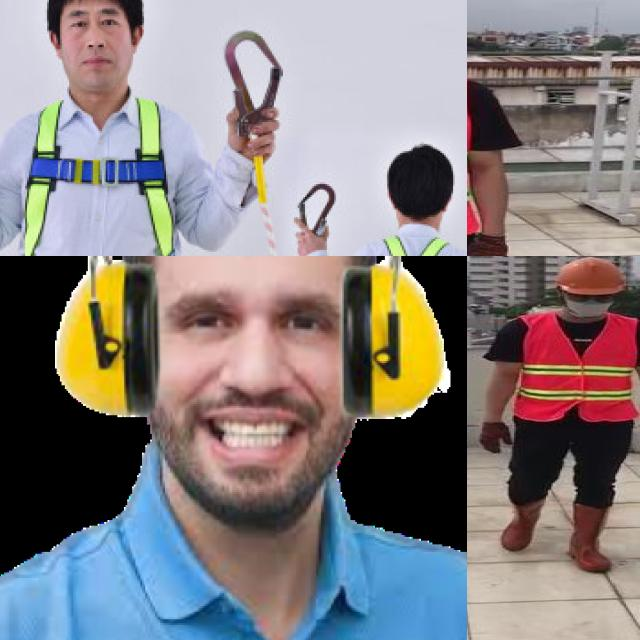Ear-protection: (28, 256, 467, 432)
Harness: (10, 96, 180, 256)
No_Glasses: (64, 7, 121, 34)
boots: (571, 502, 619, 574), (486, 500, 548, 552)
face_mask: (559, 290, 618, 322)
glasses: (560, 290, 619, 306)
hand_glove: (478, 421, 514, 452), (467, 233, 505, 256)
head_helmet: (552, 256, 628, 297)
person: (467, 256, 640, 568), (467, 0, 534, 256)
vest: (515, 315, 640, 421)
